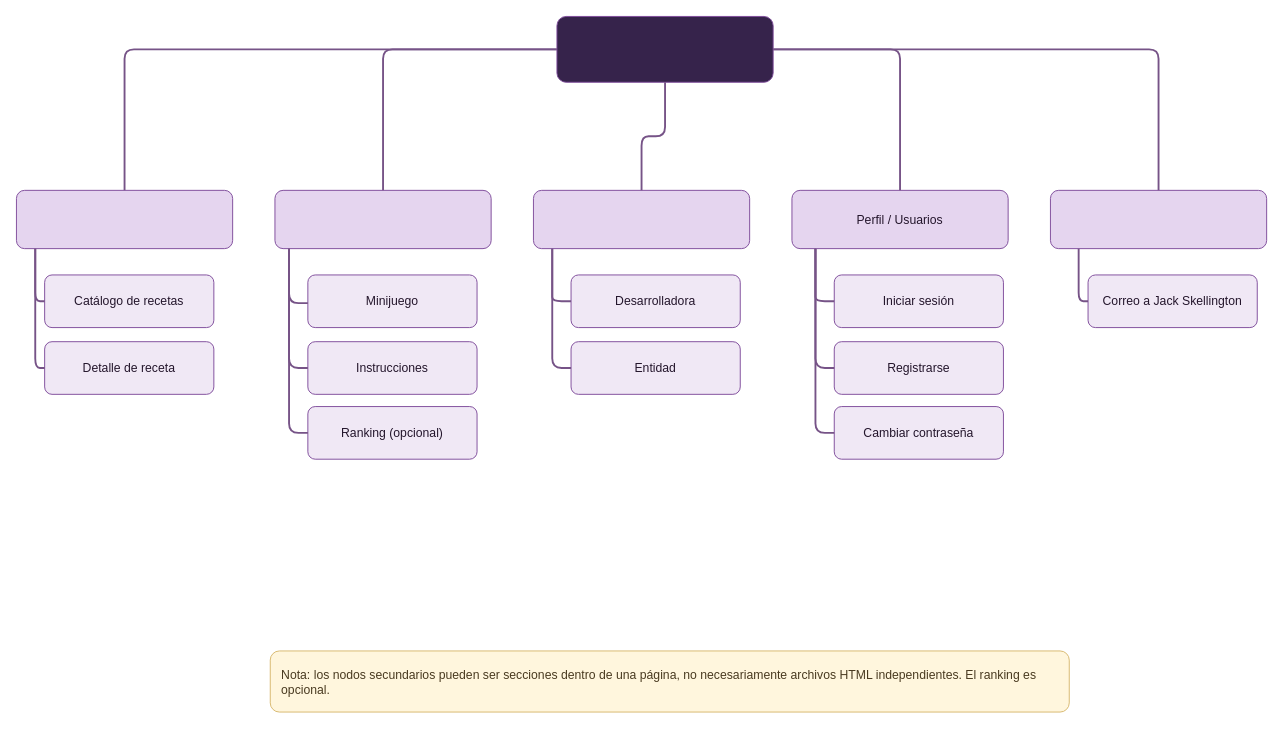
Image size: 1283x729. Some labels were removed from this diagram. Each missing label, with the centre of its shape:
"Contacto" goes at point 1158,219.
"INICIO Museo del horror" goes at point 664,49.
"No entres · Juego" goes at point 382,219.
"Postres de Halloween" goes at point 124,219.
"Sobre nosotros" goes at point 641,219.
